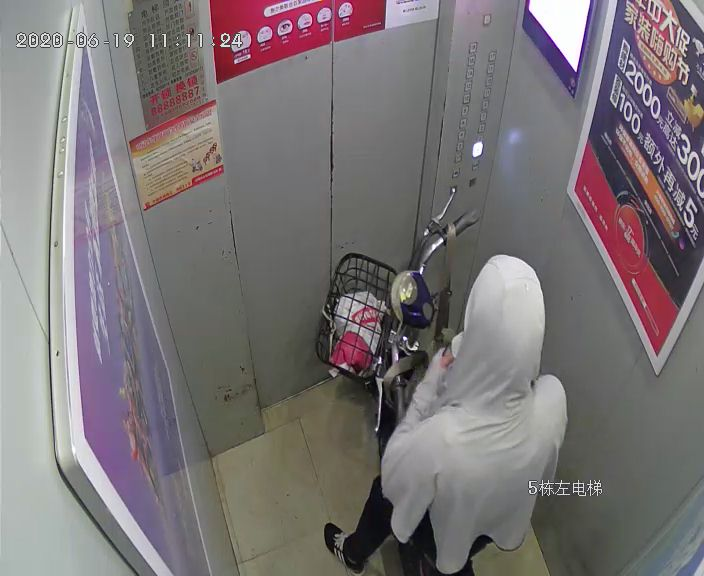Electric-bicycle: (320, 187, 481, 421)
